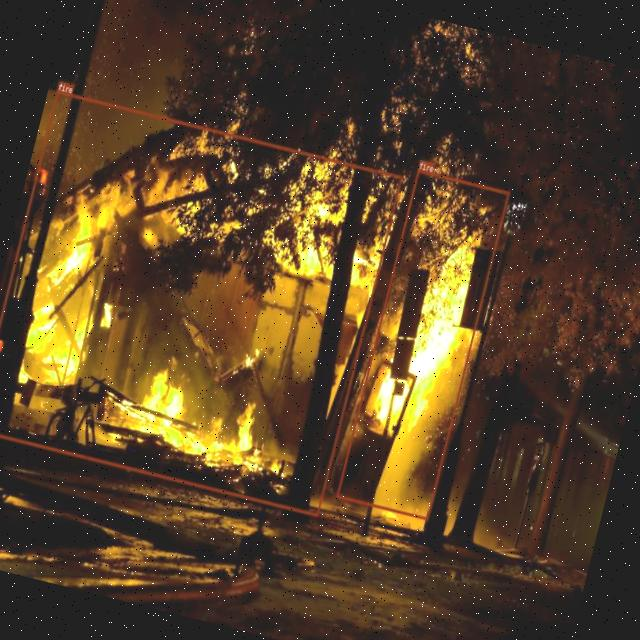fire: (0, 89, 401, 515), (336, 168, 510, 519)
